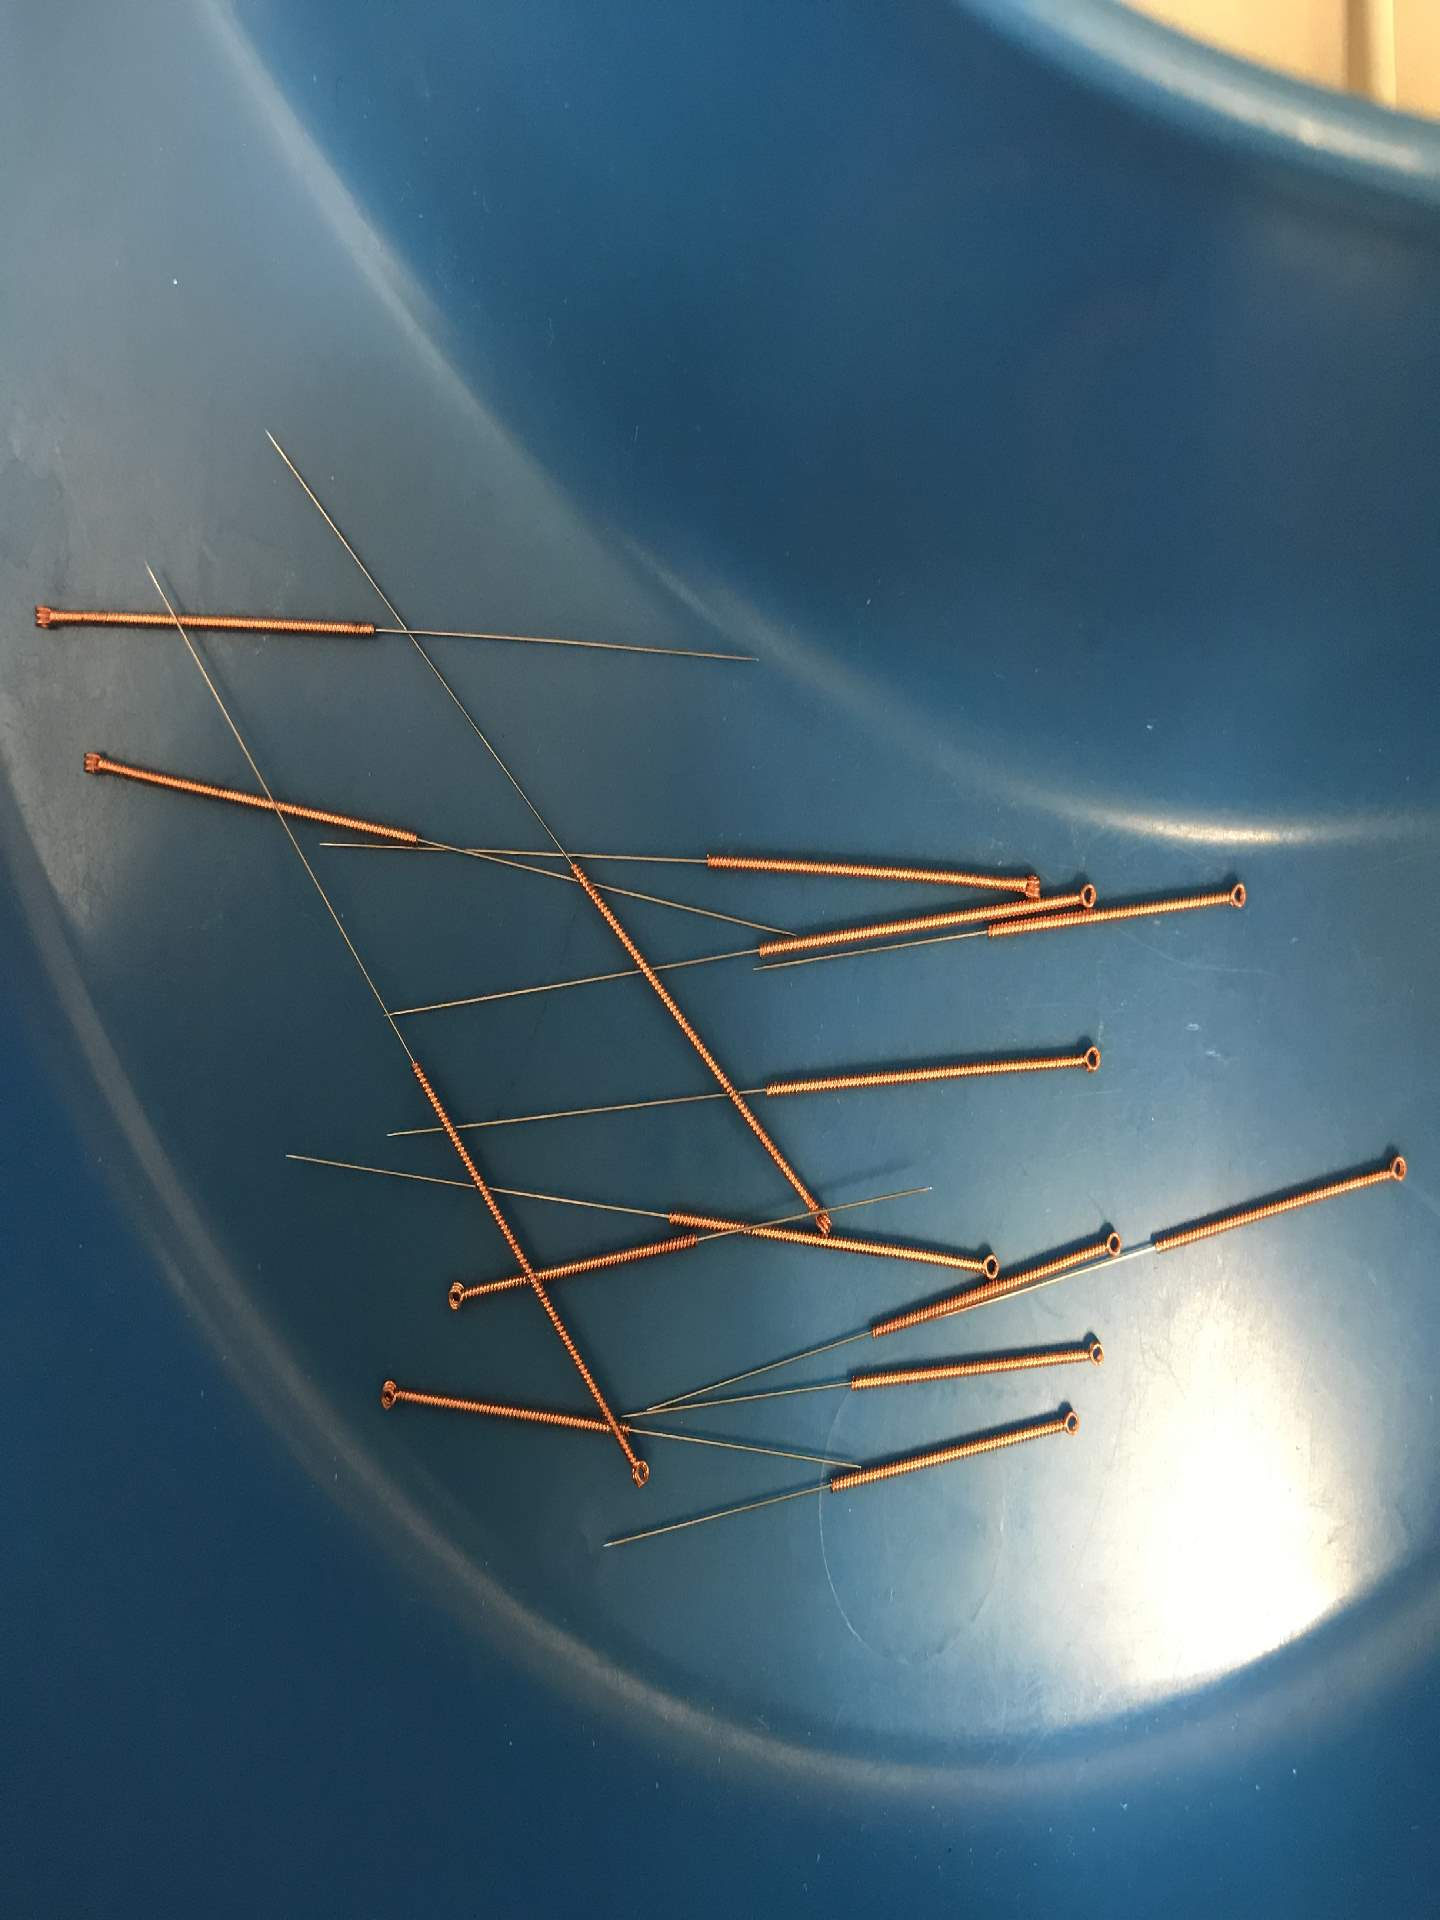needle: (23, 593, 65, 639), (619, 1448, 659, 1497), (371, 1370, 408, 1420), (437, 1271, 475, 1320), (1071, 1039, 1109, 1082), (1376, 1147, 1414, 1191), (1219, 872, 1255, 918), (74, 739, 110, 785), (805, 1197, 839, 1241), (1010, 865, 1048, 904), (1051, 1403, 1088, 1444), (1078, 1330, 1110, 1373), (970, 1246, 1003, 1285), (1069, 877, 1104, 913), (1095, 1225, 1125, 1265)
